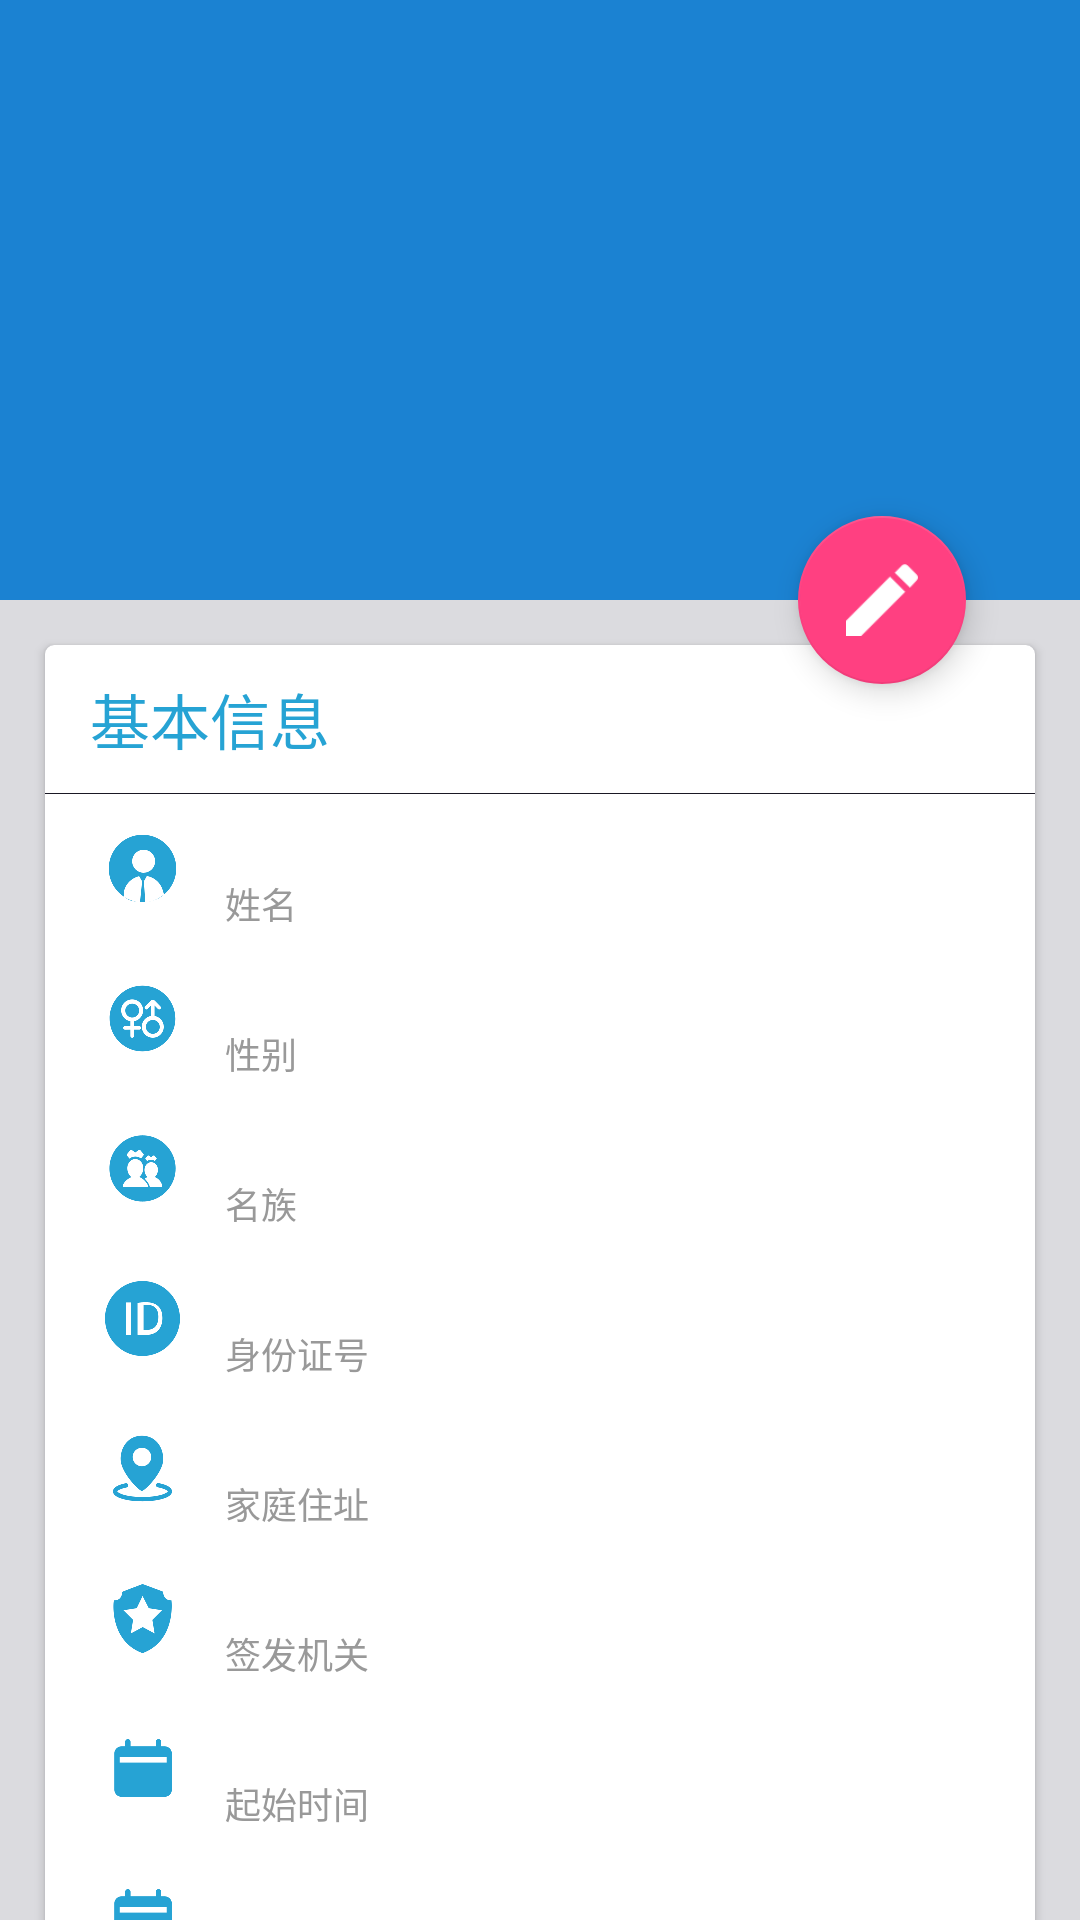

Named icons in this screenshot (1080×1920) and their centers, point (x, y):
dzhi: point (142, 1468)
mingzu: point (142, 1168)
xiugai: point (882, 600)
